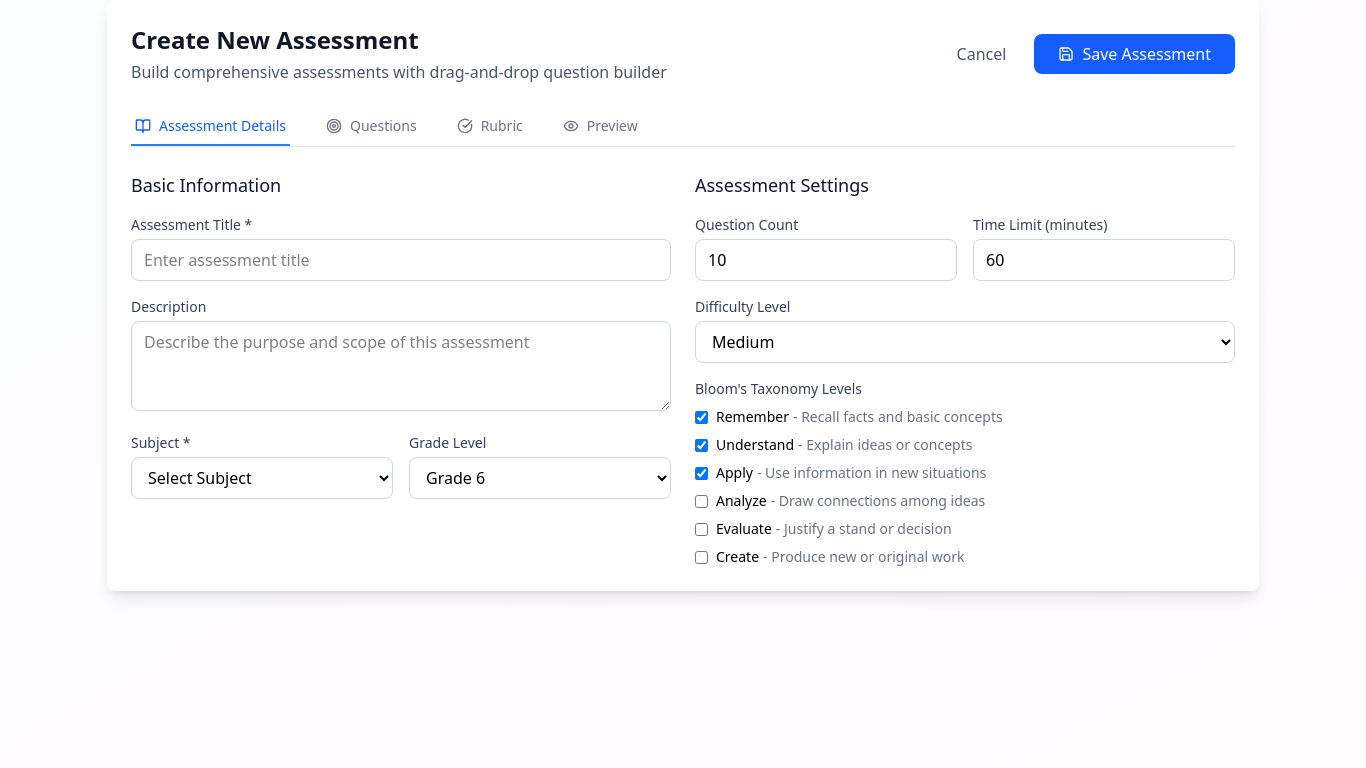
it: AssessmentBuilder › Questions Tab › allows adding new questions
Switch to questions tab
Click the button "Questions": (371, 127) [322,108,421,146]
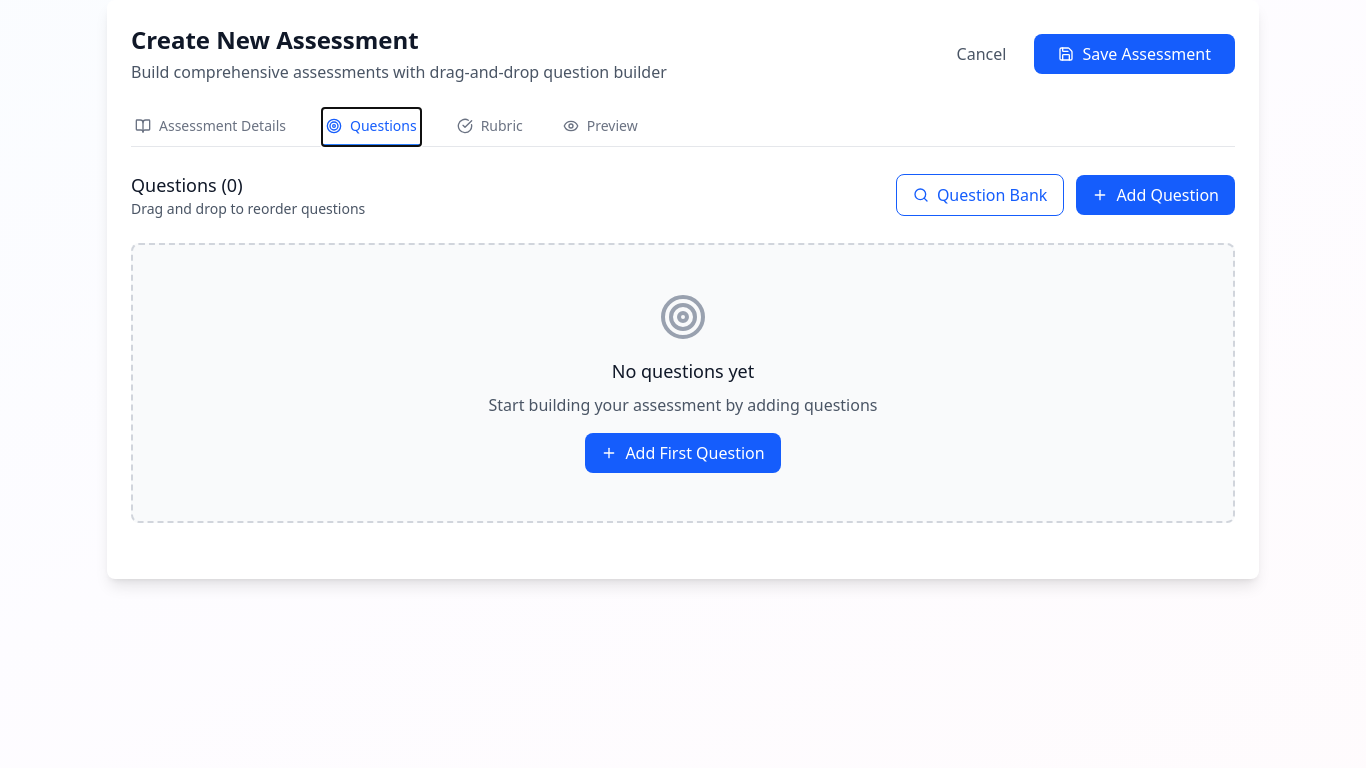
Add a question
Click the button "Add First Question": (683, 453) [585,433,781,473]
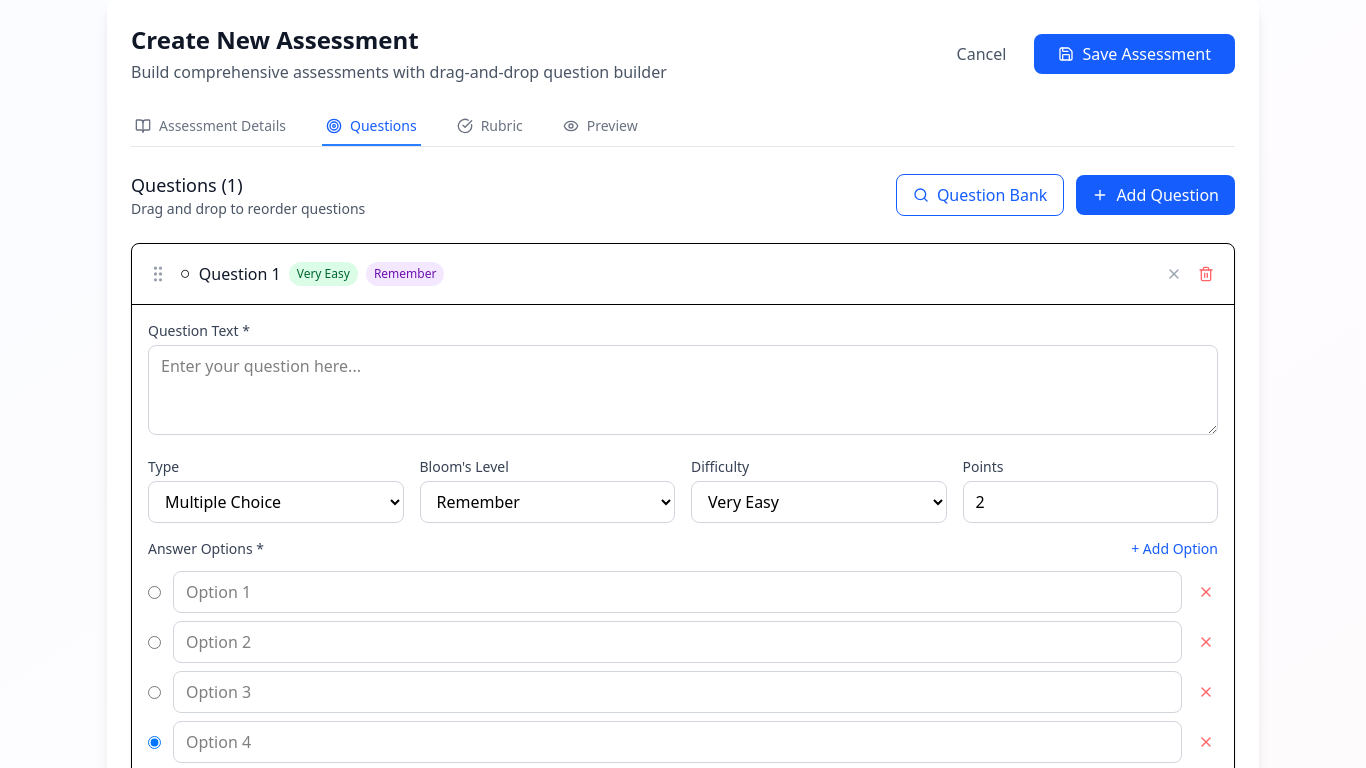
Expected: the heading "Questions (1)" is shown, [131,173,242,197]
Expected: the text "Question 1" is shown, [199,262,281,286]
